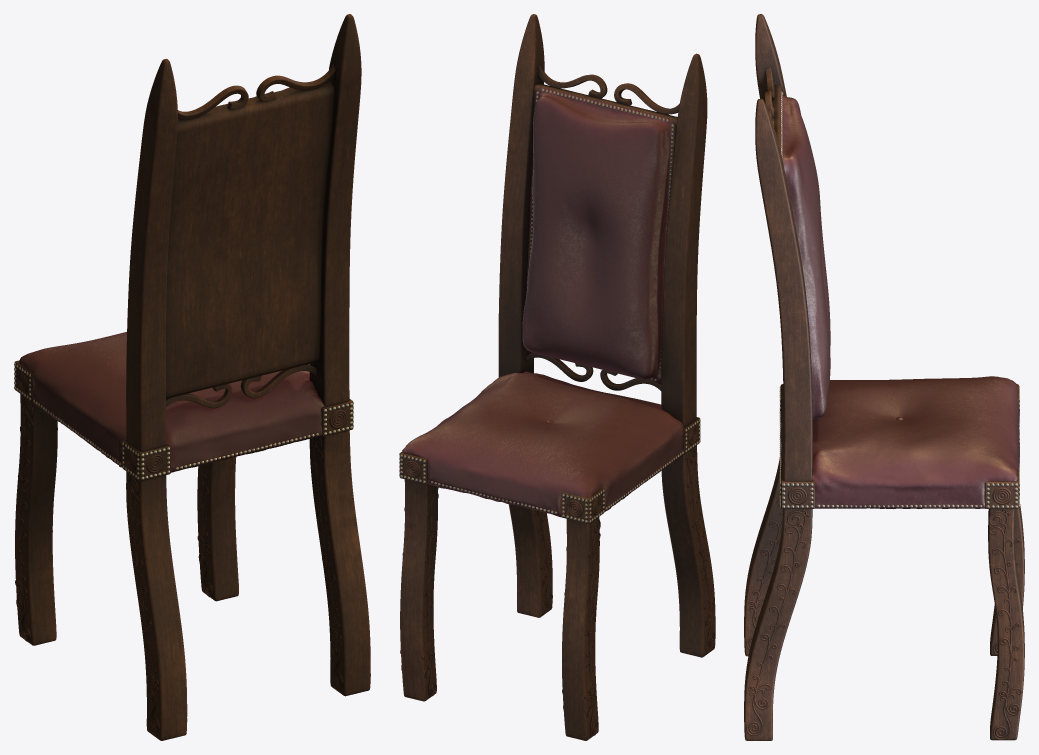
The model's file is chair.glb.
The picture shows the model from 3 angles, left to right: view 1: azimuth 30°, elevation 25°; view 2: azimuth 150°, elevation 25°; view 3: azimuth 270°, elevation 25°; orthographic projection. The views are drawn at different scales.
Visible parts, largest first — view 1: Chair; view 2: Chair; view 3: Chair.
Part boxes in pixels (<box>): Chair: <box>14,14,370,740</box>; Chair: <box>399,14,715,740</box>; Chair: <box>744,14,1024,740</box>.
Bounding box in the file's own units: 0.4818 × 1.43 × 0.5733.
1 material, 1 textured.
